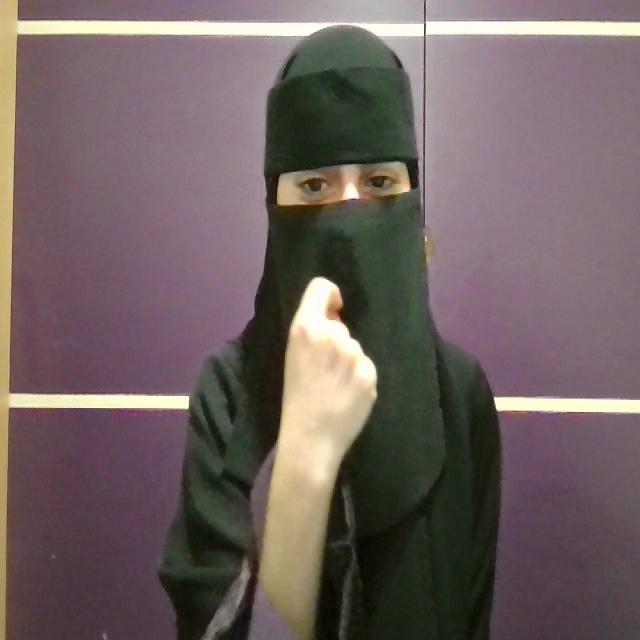medicine: (252, 275, 378, 637)
